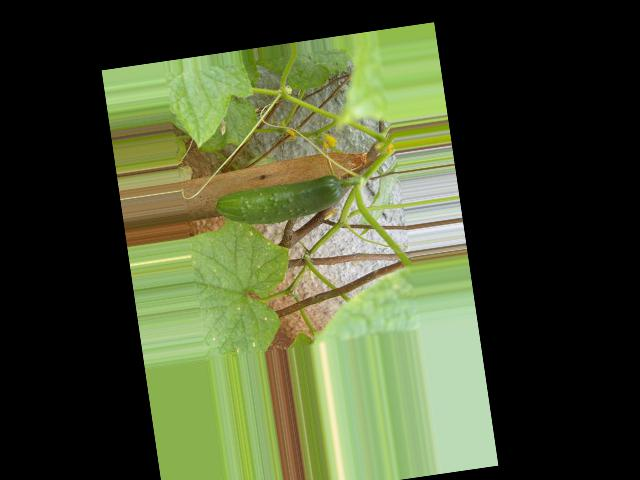cucumber: (213, 173, 347, 231)
